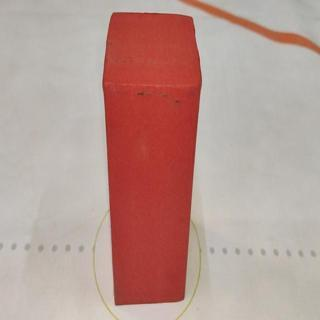redbox: (102, 9, 203, 306)
